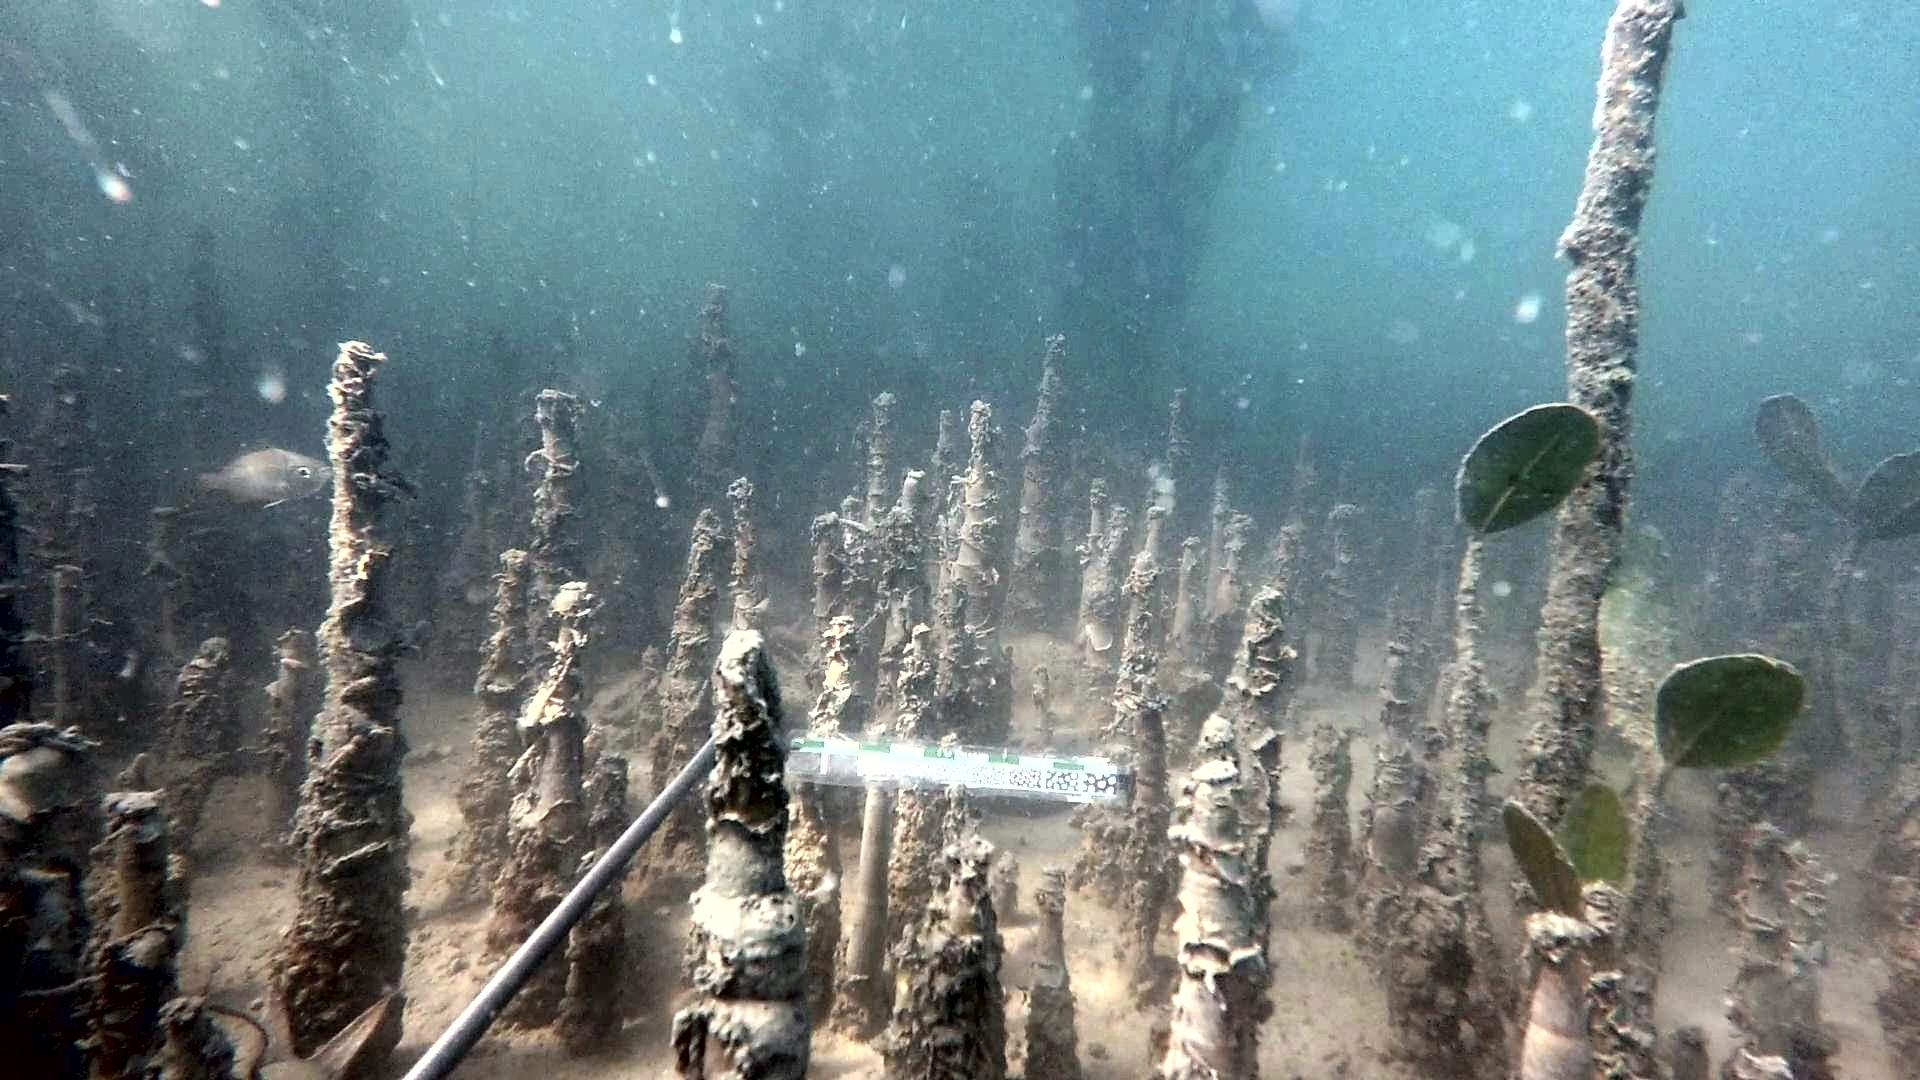gerres: (150, 431, 332, 510)
